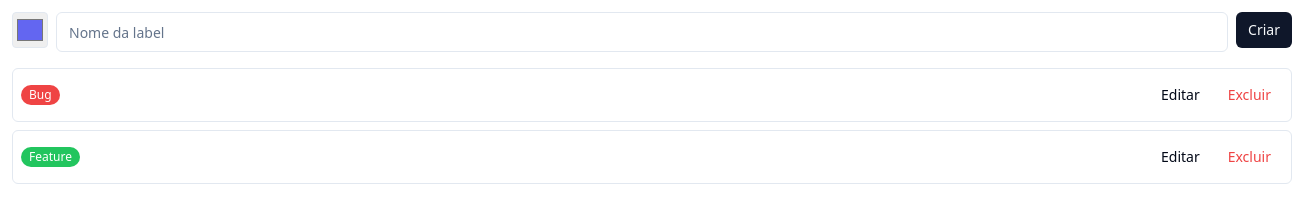
Scenario: LabelManager › enters edit mode when clicking edit button
Click the button "Editar" in the row of "Bug": point(1180, 95) [1149,77,1212,113]
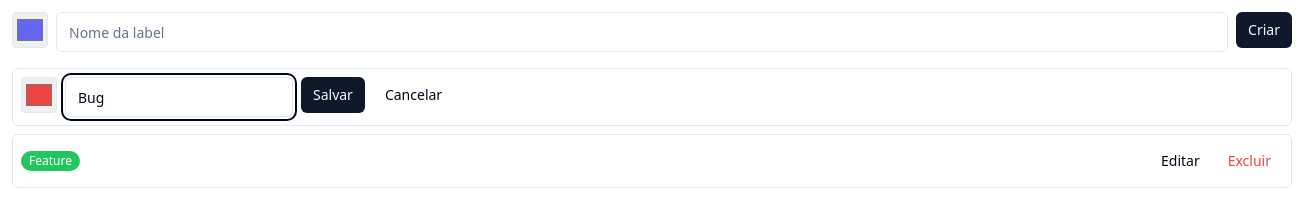
Result: the field showing "Bug" is shown at [65,77,293,117]
